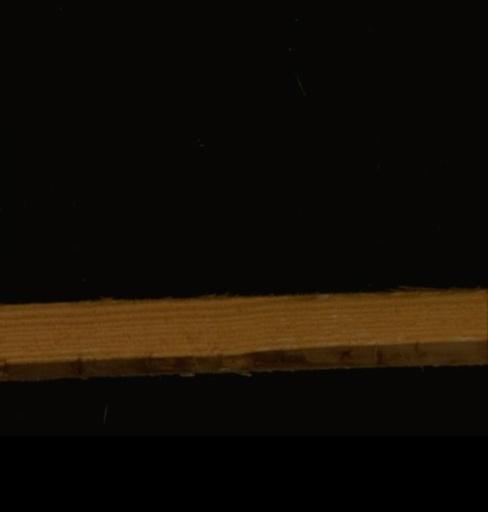wave: (0, 278, 485, 315), (2, 343, 481, 379)
